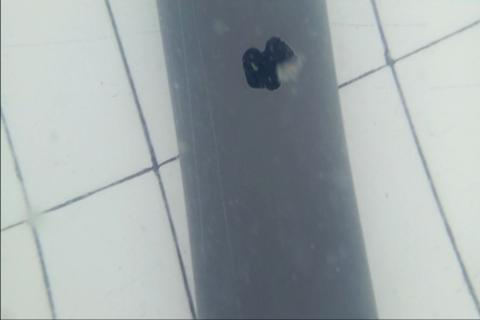kebocoran: (238, 36, 298, 93)
